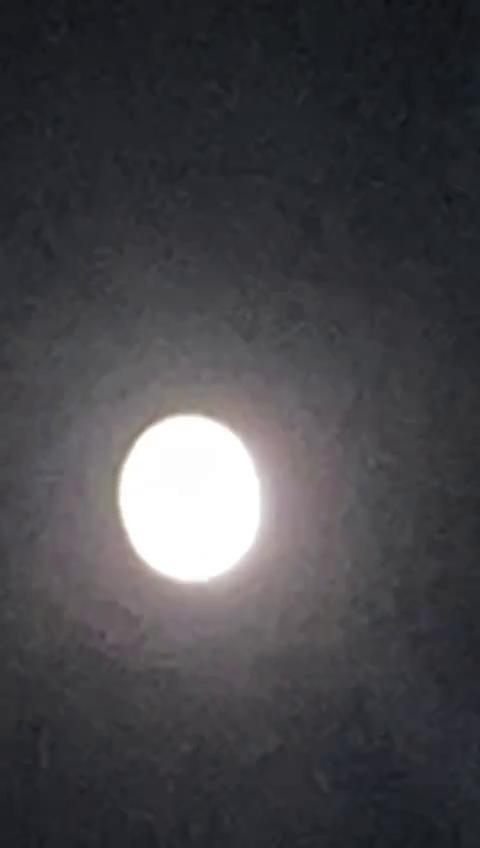moon: (95, 398, 262, 588)
